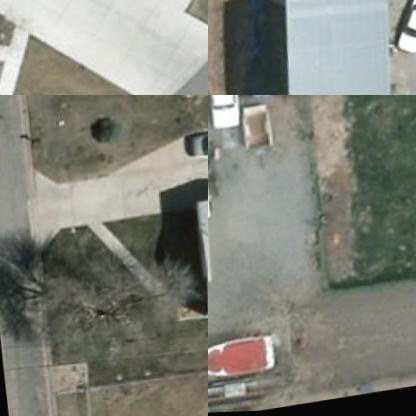boat: (208, 330, 280, 389)
car: (387, 0, 415, 60), (208, 95, 243, 132), (182, 121, 207, 167)
